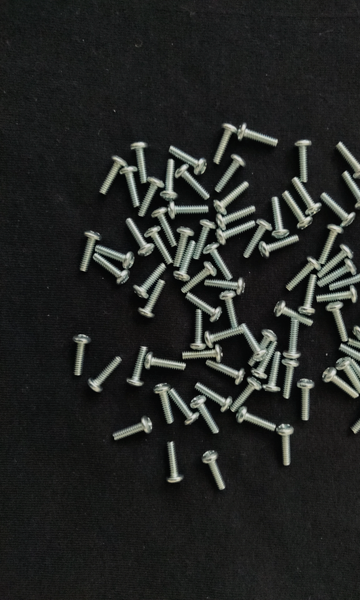shortscrew: (320, 190, 357, 228), (317, 243, 355, 280), (174, 164, 210, 201), (281, 191, 314, 230), (290, 177, 322, 217), (286, 257, 322, 292), (87, 357, 121, 394), (216, 153, 247, 193), (243, 218, 274, 258), (132, 264, 166, 300), (317, 258, 359, 287), (93, 254, 131, 286), (214, 182, 249, 216), (322, 368, 359, 400), (203, 243, 234, 281), (190, 396, 220, 435), (318, 222, 345, 265), (169, 145, 207, 175), (195, 383, 233, 413), (185, 292, 223, 322), (248, 329, 277, 368), (99, 155, 127, 195), (145, 225, 173, 265), (201, 450, 227, 492), (240, 323, 268, 362), (170, 389, 200, 425), (251, 338, 276, 381), (126, 218, 154, 256), (215, 221, 257, 246), (111, 417, 153, 442), (274, 301, 314, 327), (236, 406, 276, 432), (259, 235, 300, 260), (238, 122, 279, 147), (213, 123, 237, 165), (214, 206, 256, 230), (326, 301, 349, 343), (268, 196, 291, 238), (334, 358, 360, 395), (95, 246, 135, 270), (206, 361, 246, 385), (140, 281, 165, 319), (172, 227, 195, 268), (79, 230, 101, 272), (126, 346, 148, 388), (174, 241, 196, 283), (336, 142, 360, 179), (280, 359, 302, 399), (72, 334, 92, 377), (192, 220, 214, 259), (283, 318, 303, 360), (145, 352, 187, 372), (120, 166, 140, 208), (203, 327, 243, 348), (166, 440, 185, 484), (154, 383, 174, 424), (317, 286, 359, 305), (299, 275, 318, 317), (297, 379, 315, 422), (263, 351, 281, 394), (183, 345, 223, 364), (220, 290, 239, 330), (160, 160, 178, 202), (276, 424, 294, 466), (131, 141, 149, 183), (235, 378, 261, 407), (342, 171, 360, 211), (206, 277, 246, 295), (296, 139, 312, 183), (330, 268, 360, 291), (191, 309, 206, 351), (339, 344, 360, 373), (348, 359, 360, 396), (351, 399, 360, 435), (348, 339, 360, 362), (353, 309, 360, 341)
